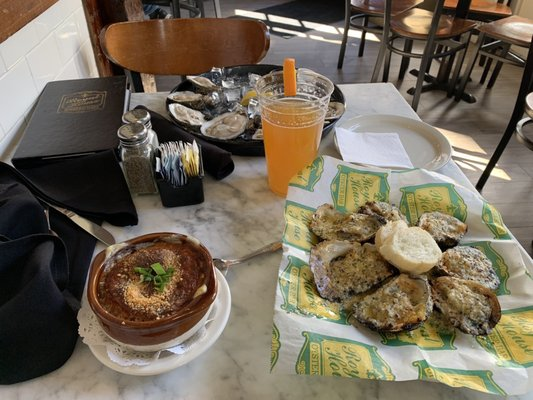pizza: (258, 92, 326, 196)
sushi: (86, 231, 218, 351)
